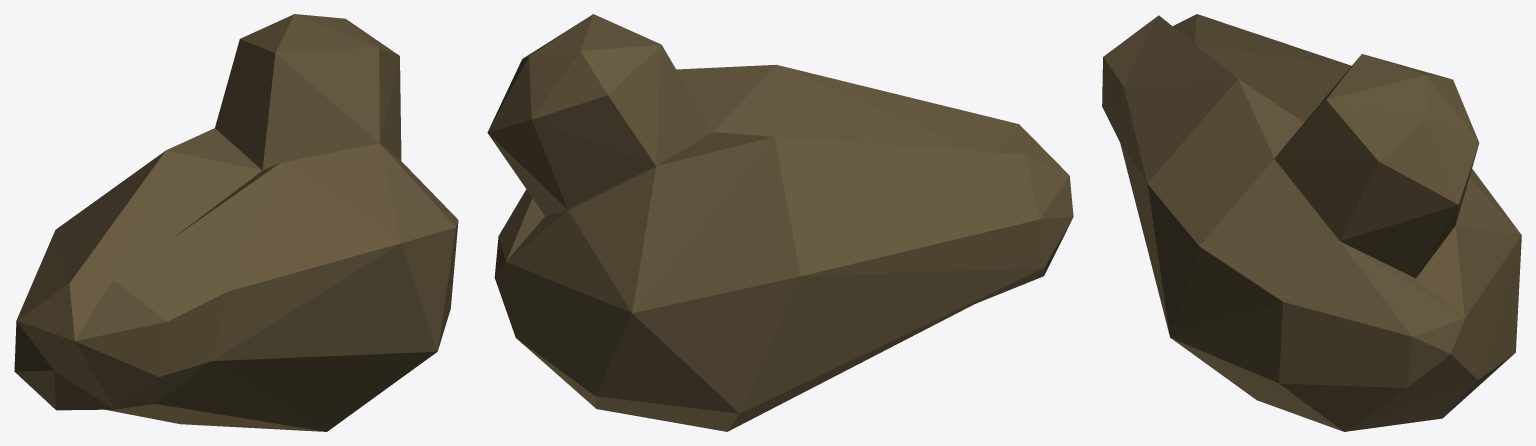
File: ant-cox-middle-left.dae
The picture shows the model from 3 angles, left to right: view 1: azimuth 30°, elevation 25°; view 2: azimuth 150°, elevation 25°; view 3: azimuth 270°, elevation 25°; orthographic projection. The views are drawn at different scales.
Parts seen in each view (by area): view 1: ant-cox-middle-left; view 2: ant-cox-middle-left; view 3: ant-cox-middle-left.
Boxes of the visible parts, x1,y1,x2,y2 form: ant-cox-middle-left: (14, 14, 458, 431); ant-cox-middle-left: (487, 14, 1073, 431); ant-cox-middle-left: (1102, 14, 1521, 431).
Bounding box in the file's own units: 2.31 × 1.76 × 1.72.
